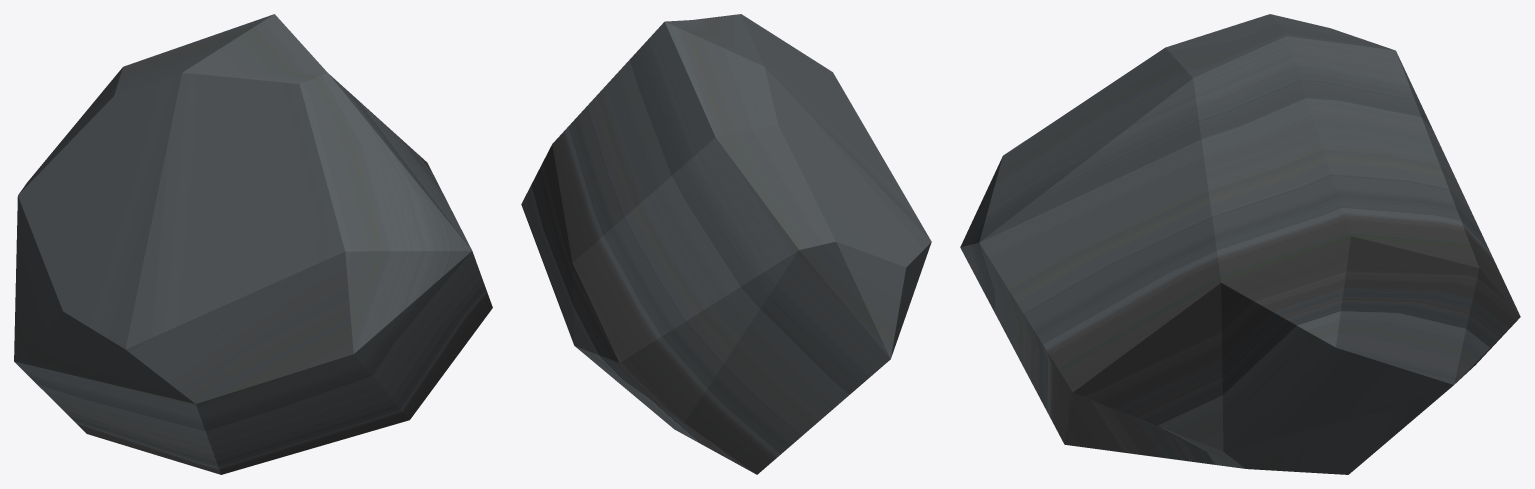
The model's file is Rock (1).glb.
The picture shows the model from 3 angles, left to right: view 1: azimuth 30°, elevation 25°; view 2: azimuth 150°, elevation 25°; view 3: azimuth 270°, elevation 25°; orthographic projection. The views are drawn at different scales.
Parts seen in each view (by area): view 1: Rock (1); view 2: Rock (1); view 3: Rock (1).
Boxes of the visible parts, left/top/right/bottom form: Rock (1): left=14, top=14, right=492, bottom=474; Rock (1): left=521, top=14, right=931, bottom=474; Rock (1): left=960, top=14, right=1520, bottom=474.
Size of the model in its own units: 1.49 by 1.56 by 1.67.
Materials: 1 (1 with a texture image).
